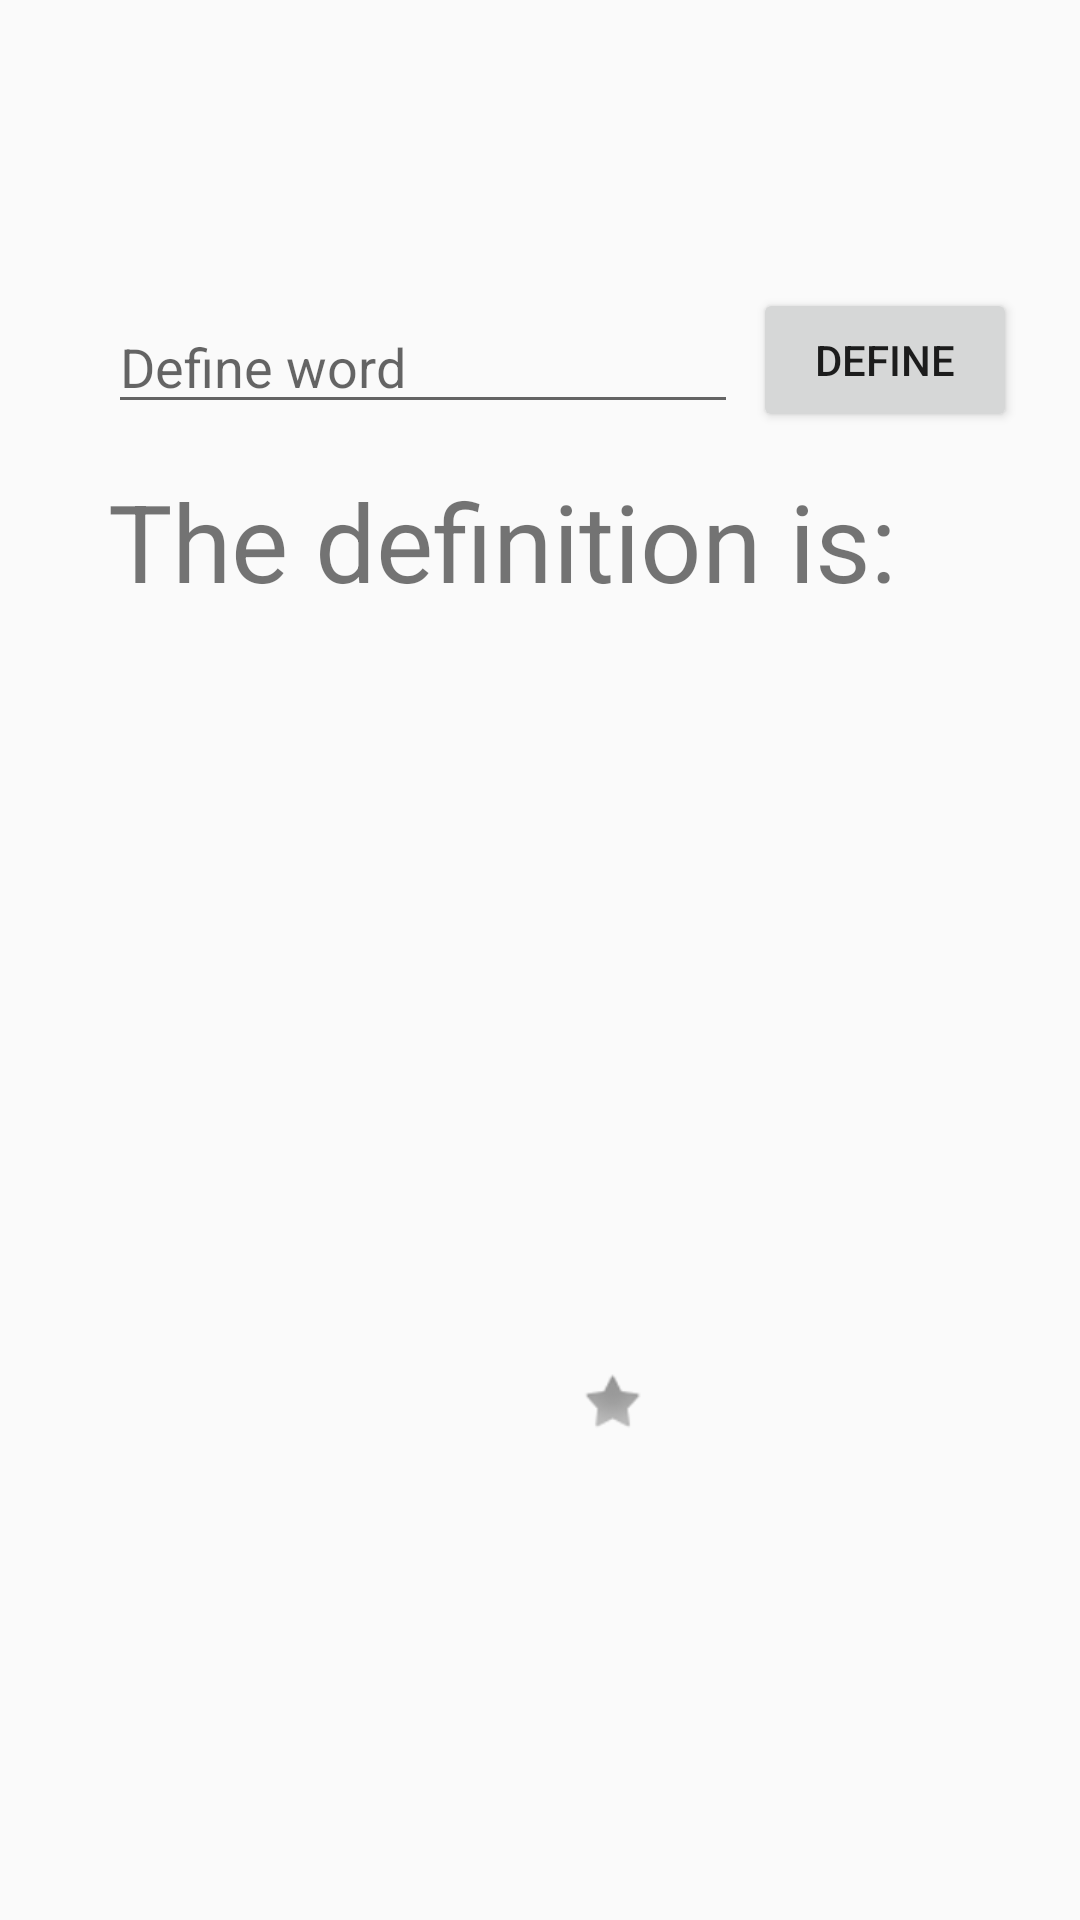

Icons on this 1080px x 1920px Android screen, each with its box as bbox=[x1, y1, x2, y2]:
star off: bbox=[586, 1375, 639, 1426]
